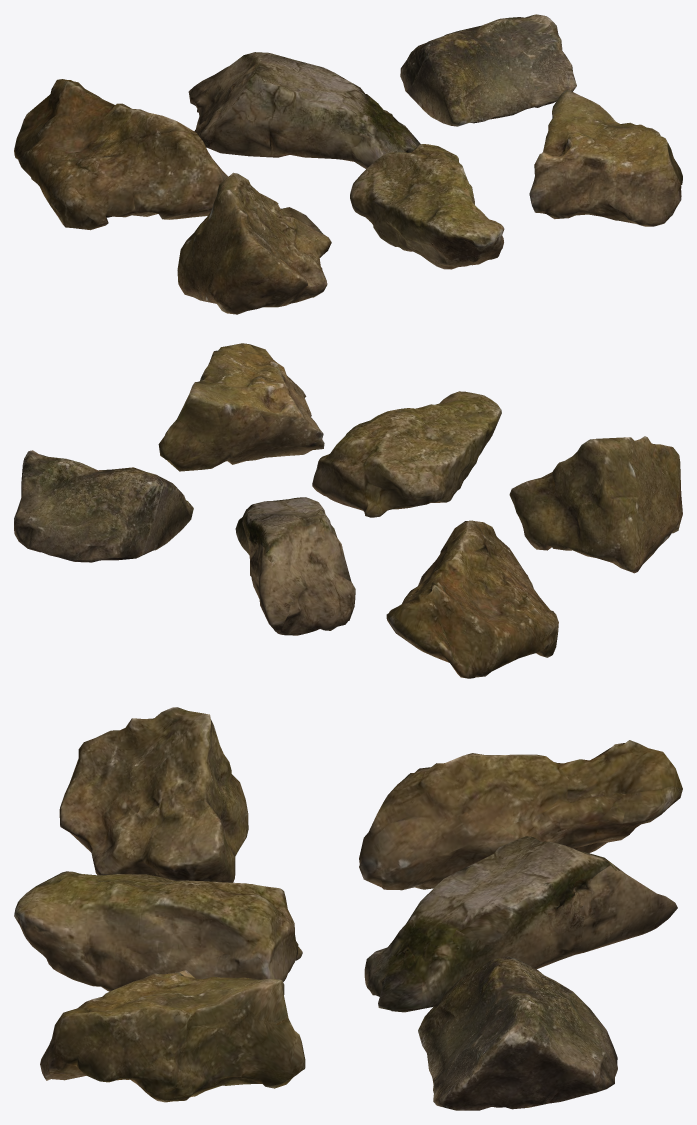
File: rock_moss_set_01.glb
3 renders of one model, top to bottom at view 1: azimuth 30°, elevation 25°; view 2: azimuth 150°, elevation 25°; view 3: azimuth 270°, elevation 25°, orthographic. The views are drawn at different scales.
Visible parts, largest first — view 1: rock_moss_set_01_rock01, rock_moss_set_01_rock02, rock_moss_set_01_rock06, rock_moss_set_01_rock04, rock_moss_set_01_rock03, rock_moss_set_01_rock05; view 2: rock_moss_set_01_rock04, rock_moss_set_01_rock01, rock_moss_set_01_rock05, rock_moss_set_01_rock03, rock_moss_set_01_rock06, rock_moss_set_01_rock02; view 3: rock_moss_set_01_rock01, rock_moss_set_01_rock02, rock_moss_set_01_rock05, rock_moss_set_01_rock06, rock_moss_set_01_rock04, rock_moss_set_01_rock03.
Boxes of the visible parts, x1=… form: rock_moss_set_01_rock01: x1=14, y1=79, x2=228, y2=230; rock_moss_set_01_rock02: x1=188, y1=52, x2=420, y2=168; rock_moss_set_01_rock06: x1=529, y1=90, x2=682, y2=226; rock_moss_set_01_rock04: x1=177, y1=172, x2=331, y2=314; rock_moss_set_01_rock03: x1=400, y1=14, x2=576, y2=126; rock_moss_set_01_rock05: x1=350, y1=144, x2=504, y2=269; rock_moss_set_01_rock04: x1=509, y1=436, x2=682, y2=573; rock_moss_set_01_rock01: x1=386, y1=520, x2=558, y2=678; rock_moss_set_01_rock05: x1=312, y1=391, x2=501, y2=517; rock_moss_set_01_rock03: x1=14, y1=450, x2=193, y2=562; rock_moss_set_01_rock06: x1=158, y1=343, x2=324, y2=471; rock_moss_set_01_rock02: x1=235, y1=497, x2=355, y2=635; rock_moss_set_01_rock01: x1=359, y1=740, x2=682, y2=890; rock_moss_set_01_rock02: x1=364, y1=836, x2=677, y2=1012; rock_moss_set_01_rock05: x1=14, y1=871, x2=302, y2=991; rock_moss_set_01_rock06: x1=40, y1=970, x2=305, y2=1102; rock_moss_set_01_rock04: x1=59, y1=707, x2=248, y2=882; rock_moss_set_01_rock03: x1=418, y1=956, x2=617, y2=1110.
Bounding box in the file's own units: 8 × 1.76 × 6.94.
Materials: 1 (1 with a texture image).
